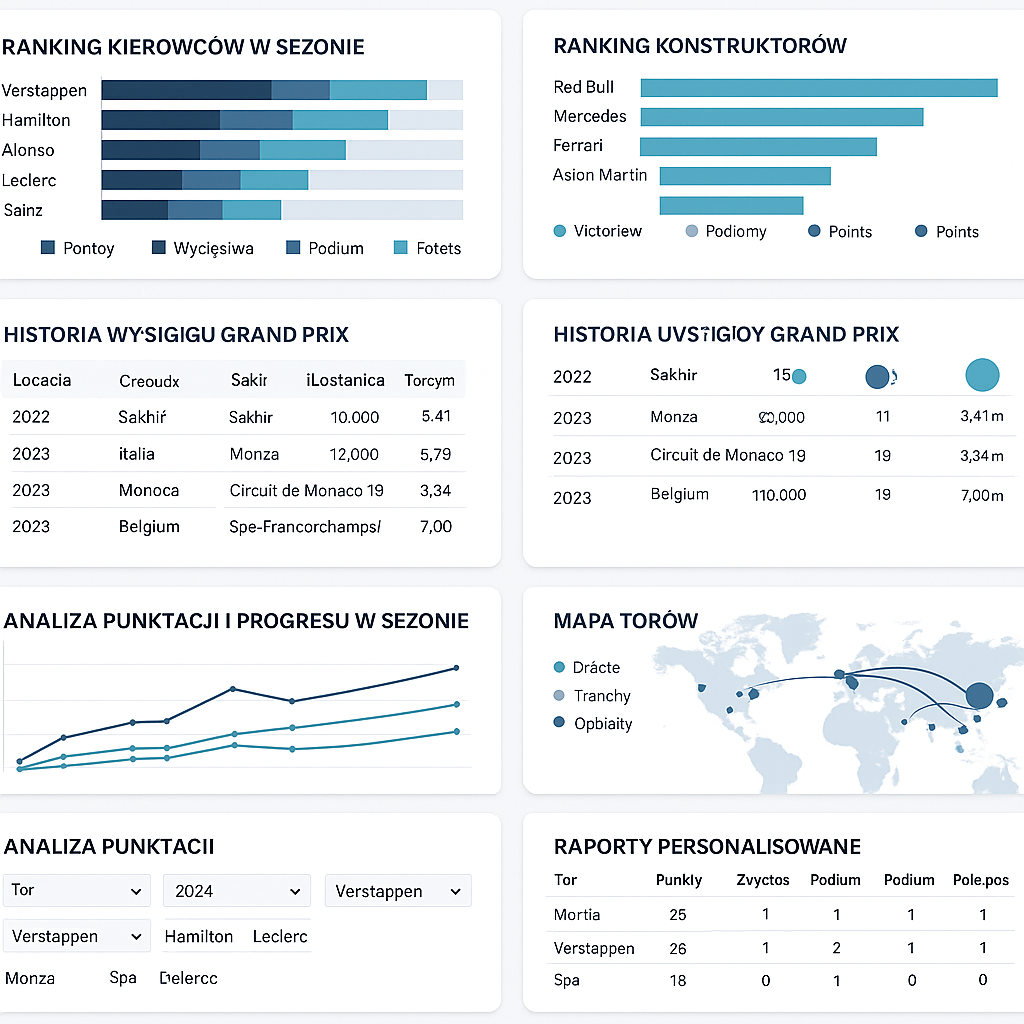

Layout of this report page (visuals, bound fields, positions):
{"tool":"powerbi","page":{"name":"Rankingi","canvas":[1280,720],"ordinal":0},"visuals":[{"type":"barChart","title":"Ranking konstruktorów","fields":{"Category":["DWH dim_constructor.constructor_name"],"Y":["Sum(DWH fact_race_data.race_data_race_points)"]},"box":[228.6,134.3,462.9,315.7],"z":0},{"type":"barChart","title":"Ranking kierowców","fields":{"Y":["Sum(DWH fact_race_data.race_data_race_points)","Sum(DWH fact_race_data.Is_podium)"],"Category":["DWH dim_driver.driver_name"]},"box":[710,134.3,531.4,261.4],"z":1000},{"type":"shape","box":[0,0,200,720],"z":2000},{"type":"pageNavigator","box":[14.3,134.3,185.7,300],"z":3000},{"type":"image","box":[0,0,200,150],"z":4000},{"type":"advancedSlicerVisual","title":"Wybierz Sezon","fields":{"Values":["DWH dim_race.race_year"]},"box":[327.1,12.9,792.9,101.4],"z":5000},{"type":"lineChart","title":"Liczba punktów ","fields":{"Series":["DWH dim_driver.driver_name"],"Y":["DWH fact_race_data.Cumulative Points"],"Category":["DWH dim_race.race_date"]},"box":[734.3,411.4,522.9,308.6],"z":6000},{"type":"barChart","title":"Ranking kierowcy dnia","fields":{"Category":["DWH dim_driver.driver_name"],"Y":["DWH fact_race_data.LiczbaKierowcaDnia"]},"box":[228.6,465.7,452.9,254.3],"z":7000}]}

Visuals, with their boxes on the page's 1280x720 design canvas (x1, y1, x2, y2). These are canvas units, not pixel positions in the 1024x1024 screenshot, which may show the page scaled, cropped or inside an application window:
"Ranking konstruktorów" barChart: {"left": 229, "top": 134, "right": 692, "bottom": 450}
"Ranking kierowców" barChart: {"left": 710, "top": 134, "right": 1241, "bottom": 396}
shape: {"left": 0, "top": 0, "right": 200, "bottom": 720}
pageNavigator: {"left": 14, "top": 134, "right": 200, "bottom": 434}
image: {"left": 0, "top": 0, "right": 200, "bottom": 150}
"Wybierz Sezon" advancedSlicerVisual: {"left": 327, "top": 13, "right": 1120, "bottom": 114}
"Liczba punktów " lineChart: {"left": 734, "top": 411, "right": 1257, "bottom": 720}
"Ranking kierowcy dnia" barChart: {"left": 229, "top": 466, "right": 682, "bottom": 720}
